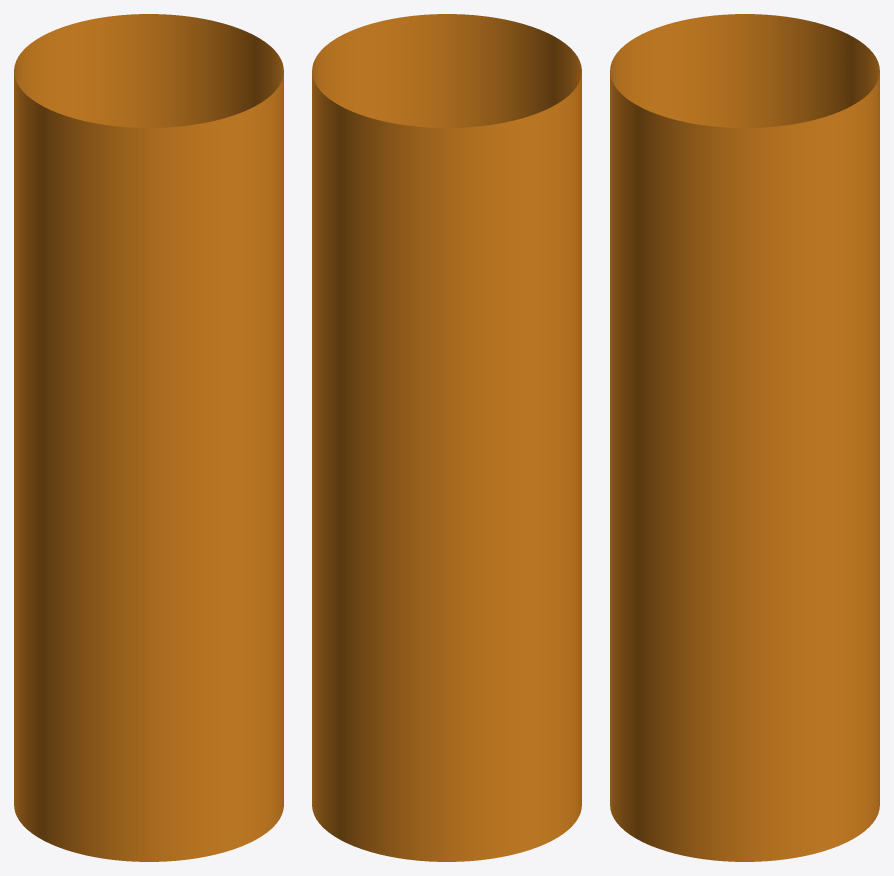
3 renders of one model, left to right at view 1: azimuth 30°, elevation 25°; view 2: azimuth 150°, elevation 25°; view 3: azimuth 270°, elevation 25°, orthographic.
Parts seen in each view (by area): view 1: SM_Cylinder_High.001; view 2: SM_Cylinder_High.001; view 3: SM_Cylinder_High.001.
Boxes of the visible parts, bbox=[...] form: SM_Cylinder_High.001: bbox=[14, 14, 283, 861]; SM_Cylinder_High.001: bbox=[312, 14, 581, 861]; SM_Cylinder_High.001: bbox=[610, 14, 879, 861].
Bounding box in the file's own units: 20000 × 60000 × 20000.
1 material, 1 textured.
